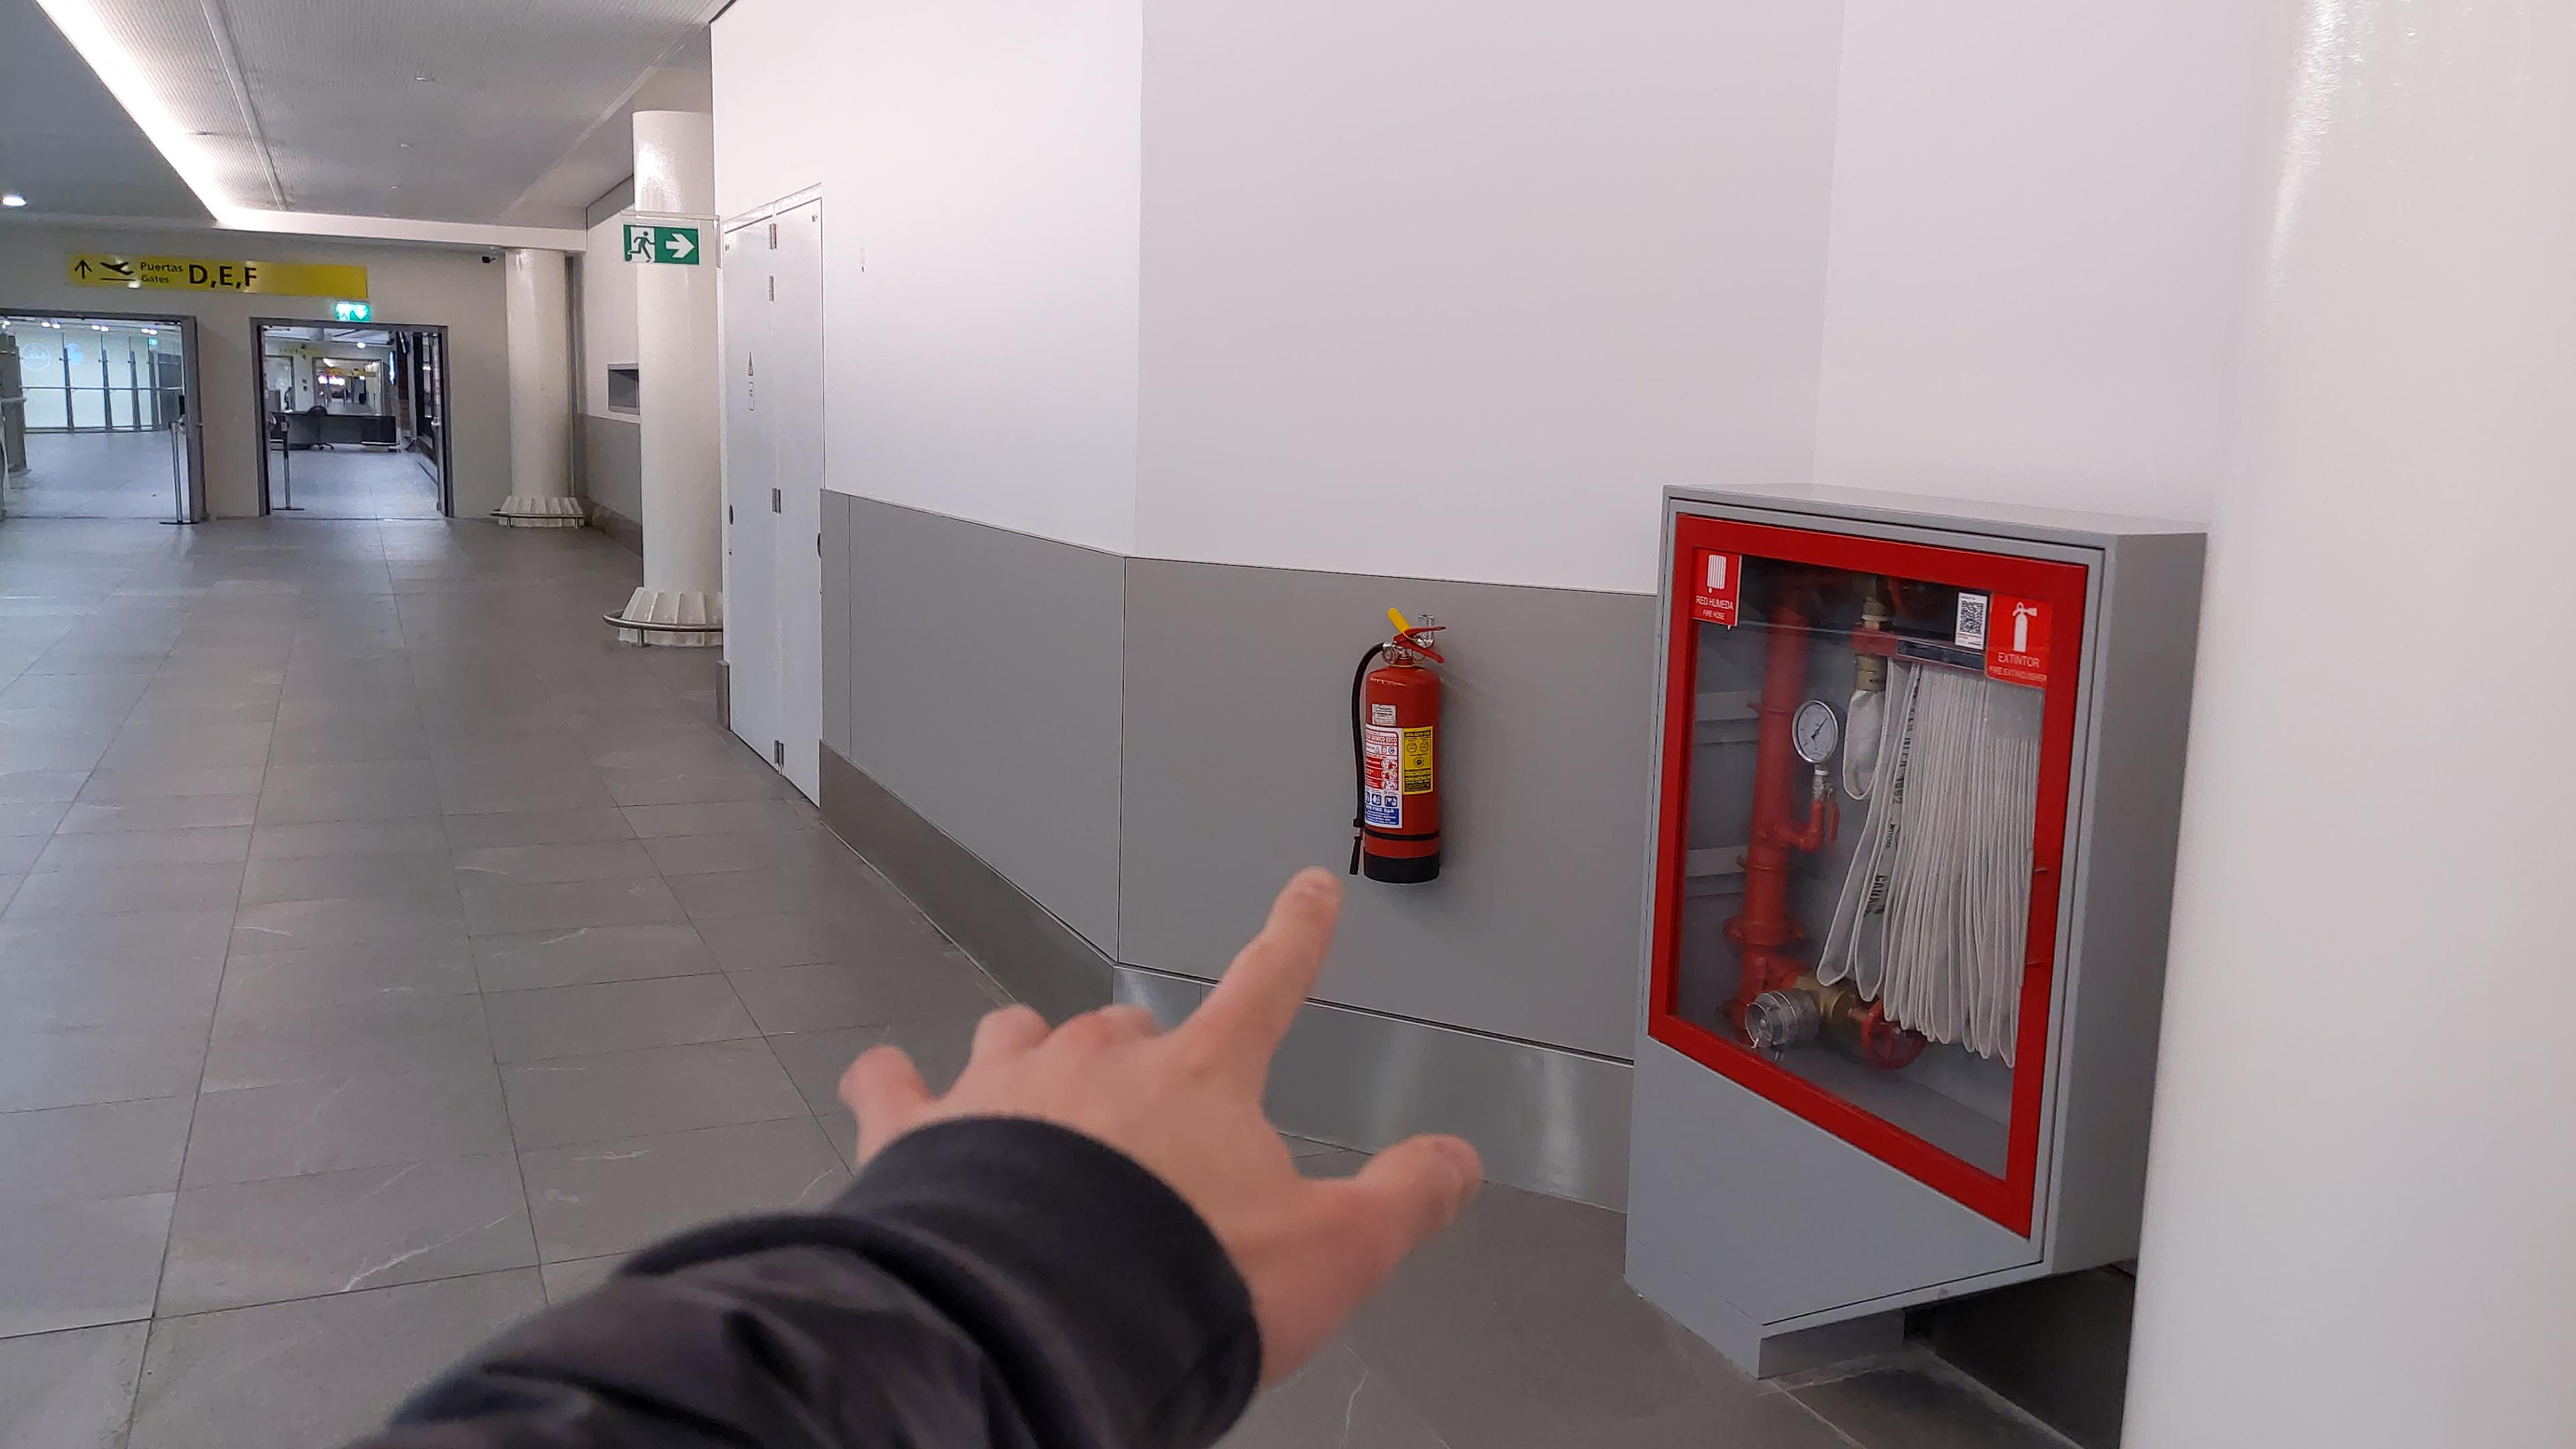airplane symbol: (97, 258, 138, 281)
emergency exit: (626, 225, 658, 264)
emergency right arrow: (663, 230, 697, 260)
emergency up arrow: (352, 304, 368, 320)
extinguisher symbol: (2008, 602, 2040, 655)
fire-extinguisher: (1343, 607, 1454, 890)
thin up arrow: (73, 258, 94, 280)
